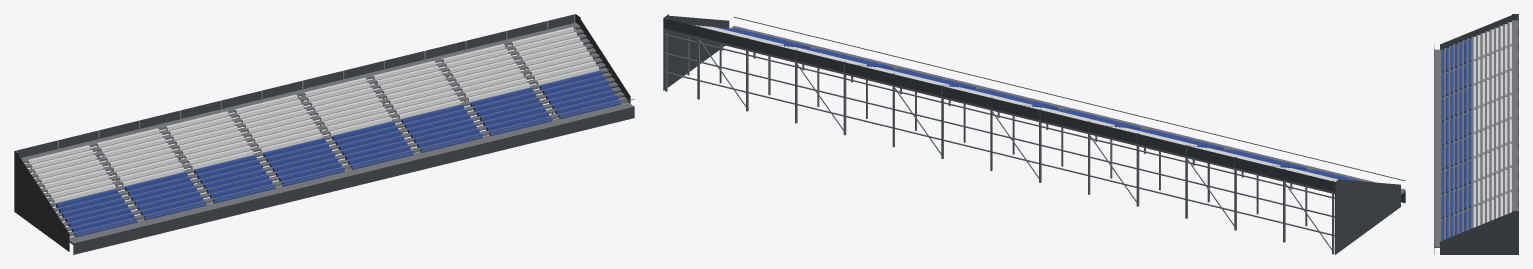
Rendered from rbr_open_t8.glb.
3 renders of one model, left to right at view 1: azimuth 30°, elevation 25°; view 2: azimuth 150°, elevation 25°; view 3: azimuth 270°, elevation 25°, orthographic. The views are drawn at different scales.
Parts seen in each view (by area): view 1: red-bull-ring-t8; view 2: red-bull-ring-t8; view 3: red-bull-ring-t8.
Part boxes in pixels (x1,y1,x2,y2): red-bull-ring-t8: [14, 14, 634, 254]; red-bull-ring-t8: [663, 14, 1405, 254]; red-bull-ring-t8: [1434, 14, 1518, 254].
Size of the model in its own units: 82.62 by 8.56 by 15.03.
